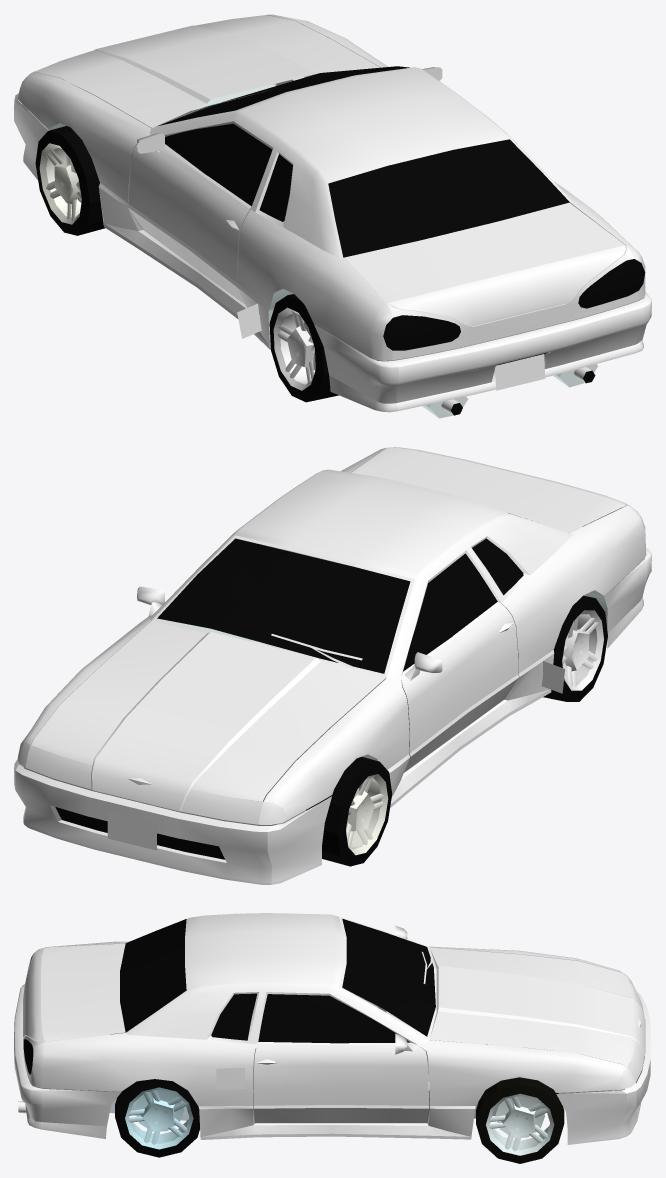
The model's file is elegy.glb.
3 views of the same model, one above another, from view 1: azimuth 30°, elevation 25°; view 2: azimuth 150°, elevation 25°; view 3: azimuth 270°, elevation 25° (orthographic). The views are drawn at different scales.
Parts seen in each view (by area): view 1: chassis, boot_ok, bonnet_ok, door_lf_ok, bump_rear_ok, wheel.003, wheel.002, windscreen_dam, plate_rear_ok, bump_front_ok, exhaust_ok, plate_rear_dam; view 2: chassis, bonnet_ok, windscreen_dam, bump_front_ok, door_lf_ok, boot_ok, wheel.003, wheel.002, bump_rear_ok, plate_front_ok; view 3: chassis, door_rf_ok, bonnet_ok, boot_ok, windscreen_dam, wheel, wheel.001, bump_rear_ok, bump_front_ok.
Boxes of the visible parts, x1,y1,x2,y2 form: chassis: (17, 14, 645, 361); boot_ok: (344, 202, 625, 325); bonnet_ok: (34, 15, 379, 127); door_lf_ok: (128, 123, 272, 303); bump_rear_ok: (314, 292, 651, 412); wheel.003: (35, 126, 105, 235); wheel.002: (269, 294, 338, 402); windscreen_dam: (158, 66, 409, 125); plate_rear_ok: (495, 354, 545, 390); bump_front_ok: (14, 93, 48, 179); exhaust_ok: (422, 364, 597, 418); plate_rear_dam: (237, 303, 261, 338); chassis: (17, 447, 646, 825); bonnet_ok: (31, 621, 385, 811); windscreen_dam: (157, 538, 410, 673); bump_front_ok: (14, 759, 331, 884); door_lf_ok: (401, 553, 518, 772); boot_ok: (351, 447, 625, 532); wheel.003: (306, 756, 392, 866); wheel.002: (543, 595, 607, 701); bump_rear_ok: (604, 548, 651, 648); plate_front_ok: (107, 812, 156, 850); chassis: (23, 913, 644, 1139); door_rf_ok: (253, 994, 429, 1122); bonnet_ok: (429, 947, 645, 1067); boot_ok: (23, 943, 125, 1041); windscreen_dam: (342, 919, 435, 1036); wheel: (476, 1077, 564, 1163); wheel.001: (115, 1079, 199, 1157); bump_rear_ok: (14, 984, 121, 1138); bump_front_ok: (556, 992, 650, 1144).
Size of what is drawn, in the model's own units: 2.31 by 1.41 by 4.97.
